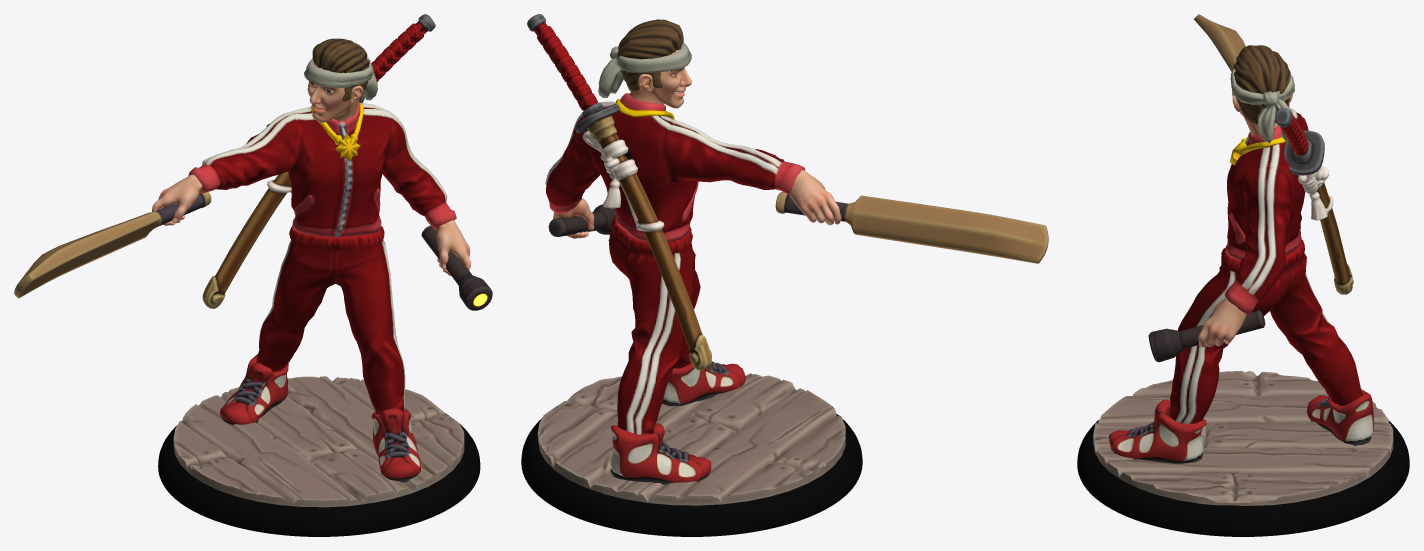
File: SM_DarrinWilliams.fbx
3 renders of one model, left to right at view 1: azimuth 30°, elevation 25°; view 2: azimuth 150°, elevation 25°; view 3: azimuth 270°, elevation 25°, orthographic. The views are drawn at different scales.
Visible parts, largest first — view 1: hf_4411755_5481250; view 2: hf_4411755_5481250; view 3: hf_4411755_5481250.
Boxes of the visible parts, x1,y1,x2,y2 form: hf_4411755_5481250: [14, 14, 492, 536]; hf_4411755_5481250: [521, 14, 1048, 536]; hf_4411755_5481250: [1077, 14, 1409, 536].
Size of the model in its own units: 221 by 193 by 135.
